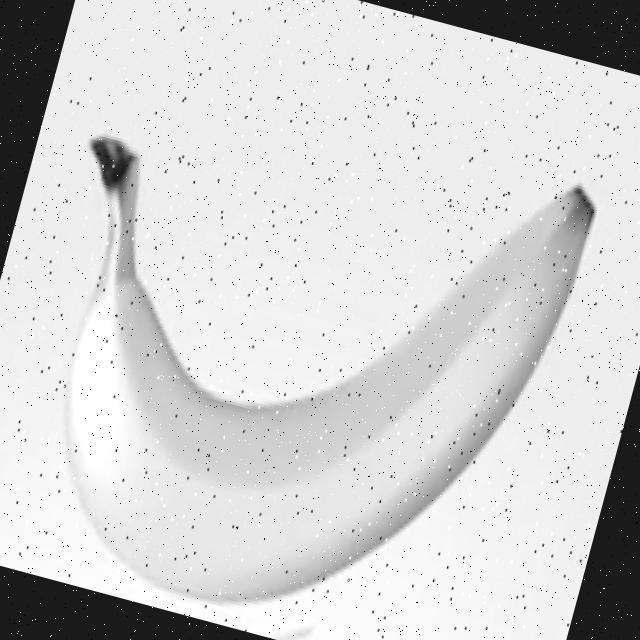banana: (0, 52, 605, 640)
